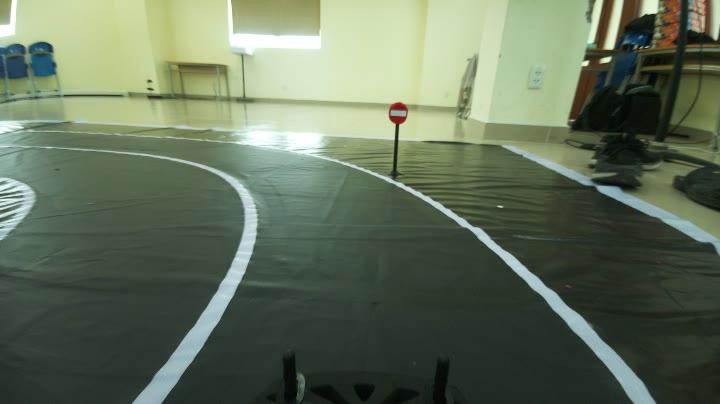no_entry: (382, 96, 411, 128)
